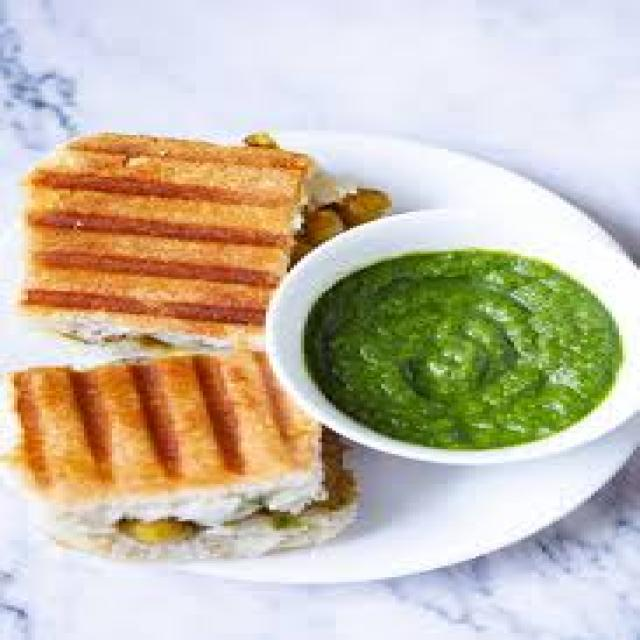GREEN CHUTNEY: (304, 249, 619, 447)
